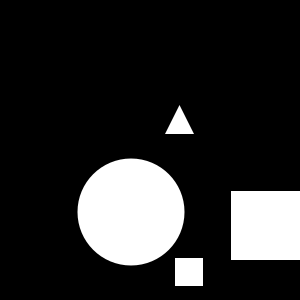circle: (231, 191, 300, 260), (175, 258, 203, 286)
rectangle: (77, 158, 184, 266)
triangle: (165, 105, 194, 134)
